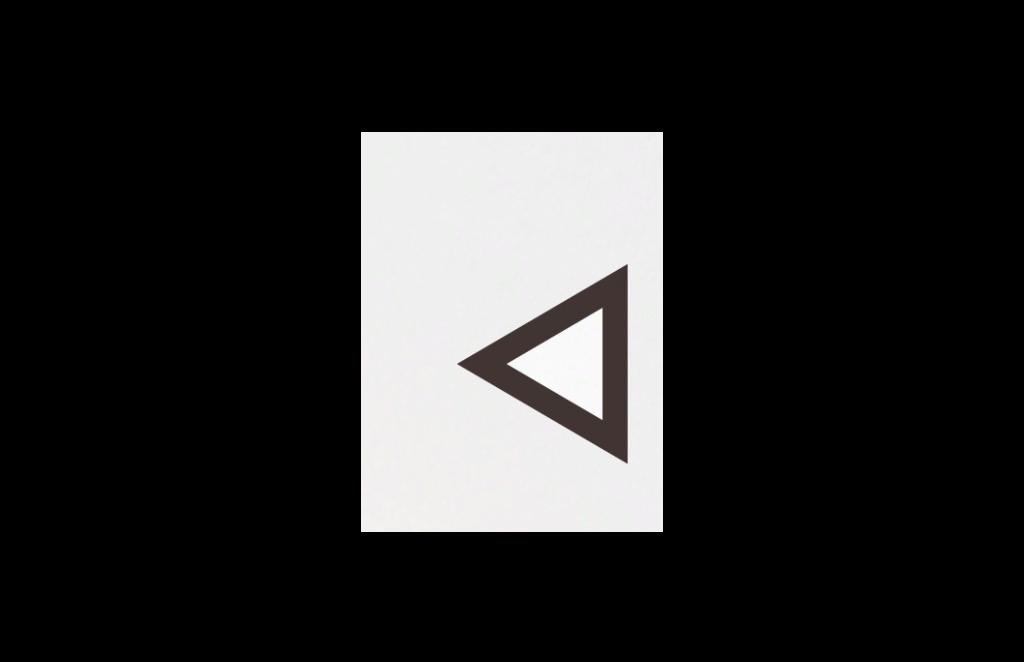unconnected_station: (426, 228, 663, 518)
